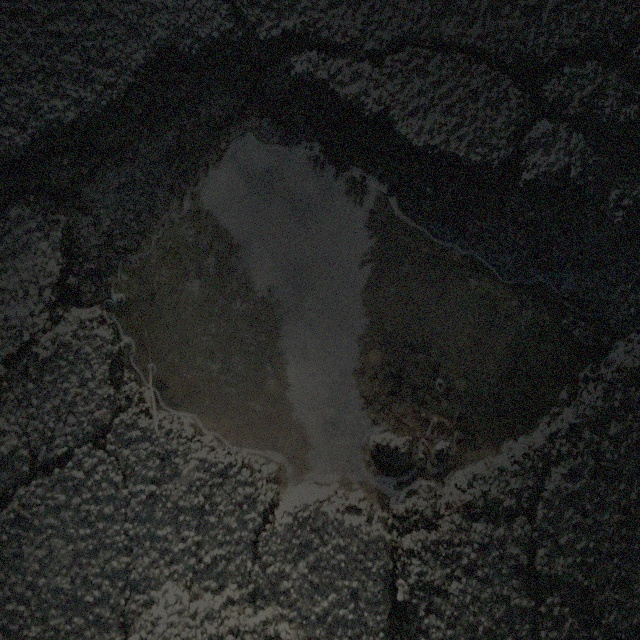pothole: (46, 25, 618, 534)
